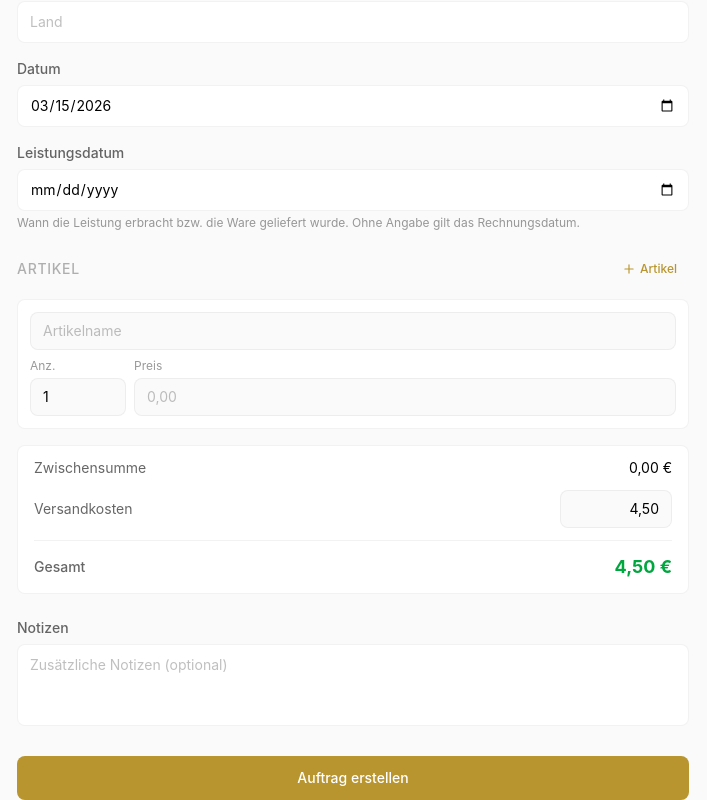
it: orders/new — Auftrag anlegen › verlangt Name, Strasse, PLZ und Ort, bevor gespeichert wird
The width and height of the screenshot is (707, 800).
(page scrolled)
Click the button "Auftrag erstellen" at (353, 778), box top-left (17, 756), bottom-right (689, 799)
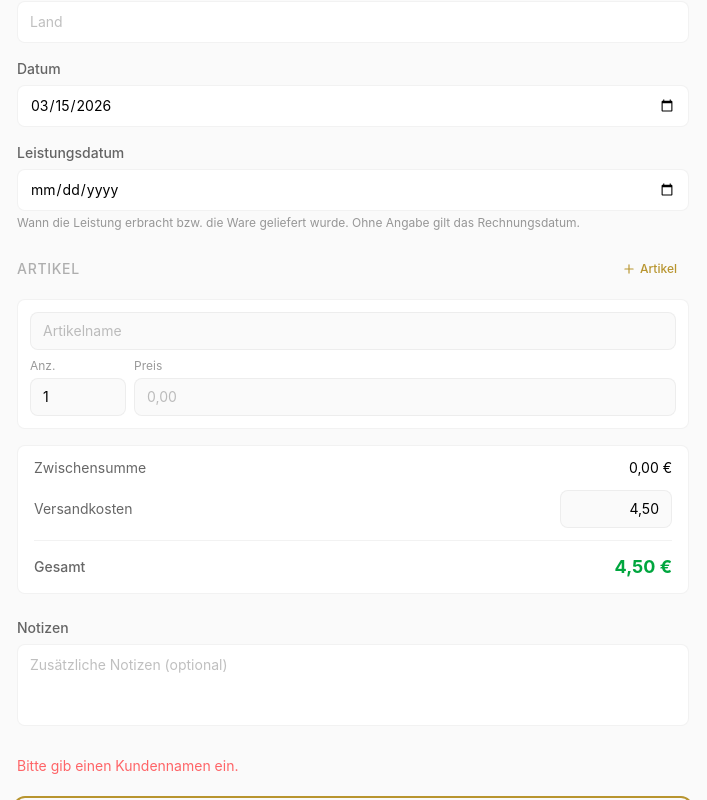
Check: the text "Bitte gib einen Kundennamen ein." is shown, box top-left (17, 757), bottom-right (238, 774)
